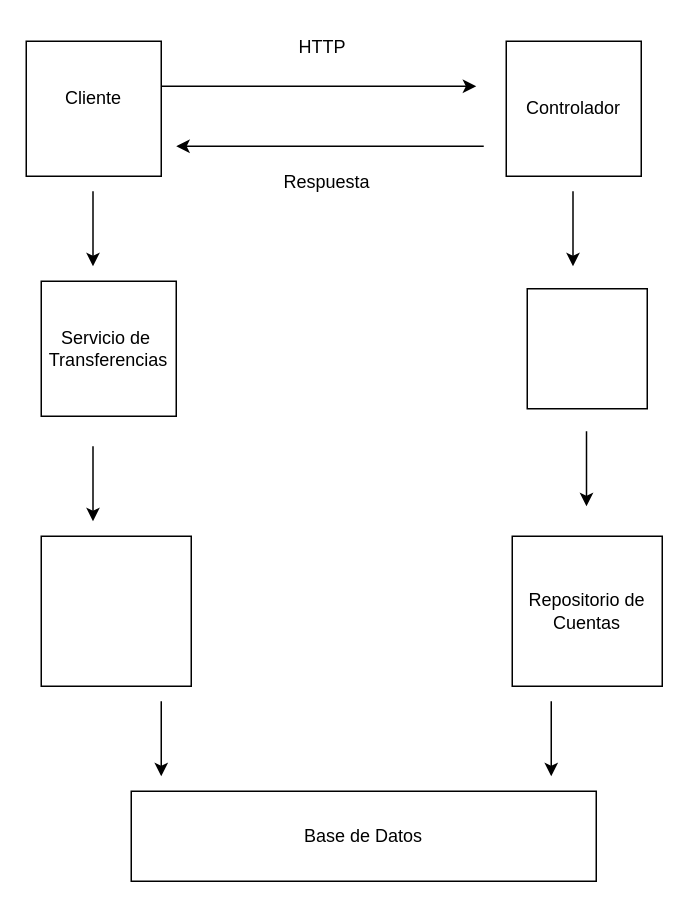
This 689x908 diagram has some shape labels left out. The centre of each missing label's shape, as x and y in pixels:
"Repositorio de Transferencias" belongs at [115,610].
"Servicio de Cuentas" belongs at [586,348].
